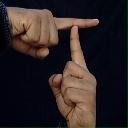hand: (47, 25, 97, 127), (0, 7, 100, 58)
